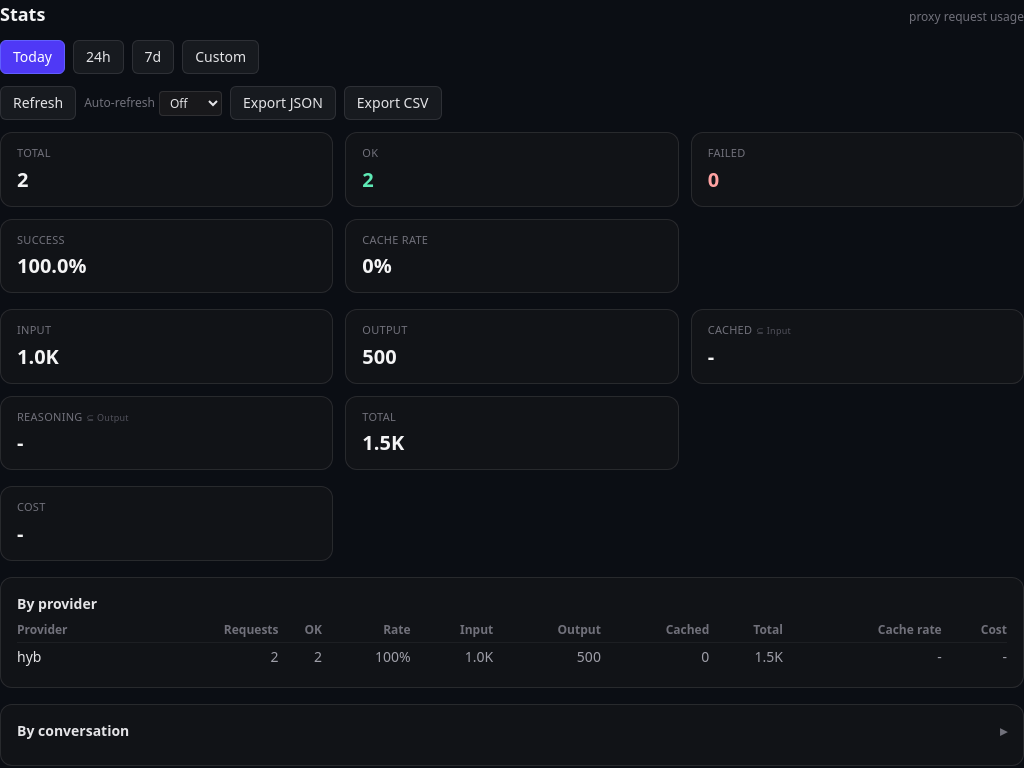
StatsPanel › keeps rendering legacy data that lacks cache/reasoning fields
What coordinates should you click on to do the following:
click the button "By conversation ▸"
I would click on:
 (73, 730)
Its box is [17,720,1007,740].
(page scrolled)
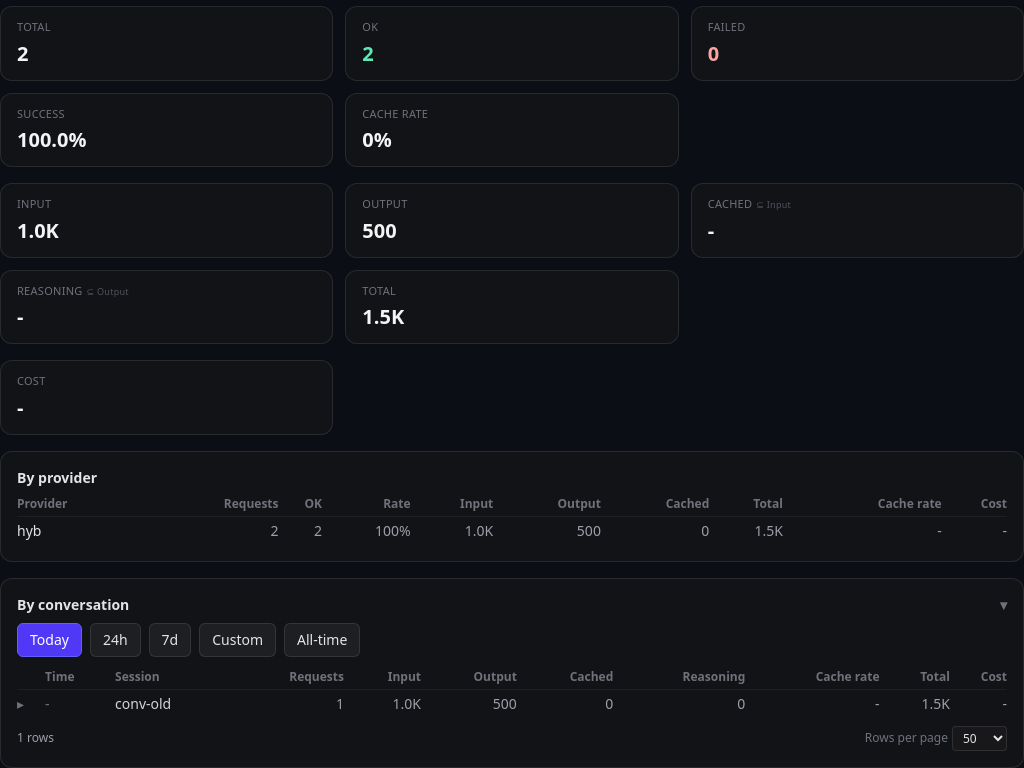
expect the button "conv-old" is shown: met, box [115,694,171,714]
expect the text "1.0K" below "Session" is shown: met, box [393,694,421,712]
expect the 2nd text "500" is shown: met, box [429,689,525,718]
